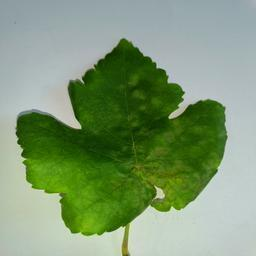Powdery-Mildew: (36, 159, 86, 191), (148, 145, 187, 181), (126, 70, 145, 102), (201, 154, 217, 171), (170, 121, 186, 137), (78, 215, 94, 231)
